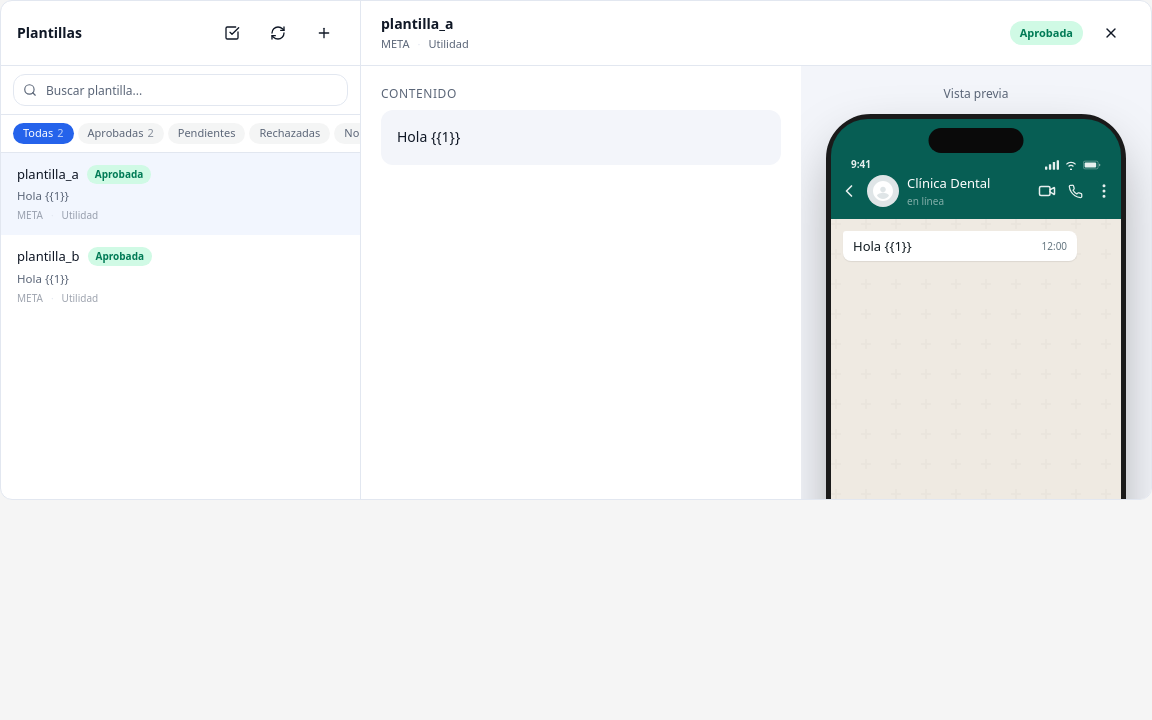
Eliminar plantillas › conserva seleccionadas las bloqueadas o fallidas para reintentar
Click the button named "Seleccionar plantillas": {"x": 232, "y": 33} x1=212 y1=13 x2=252 y2=53
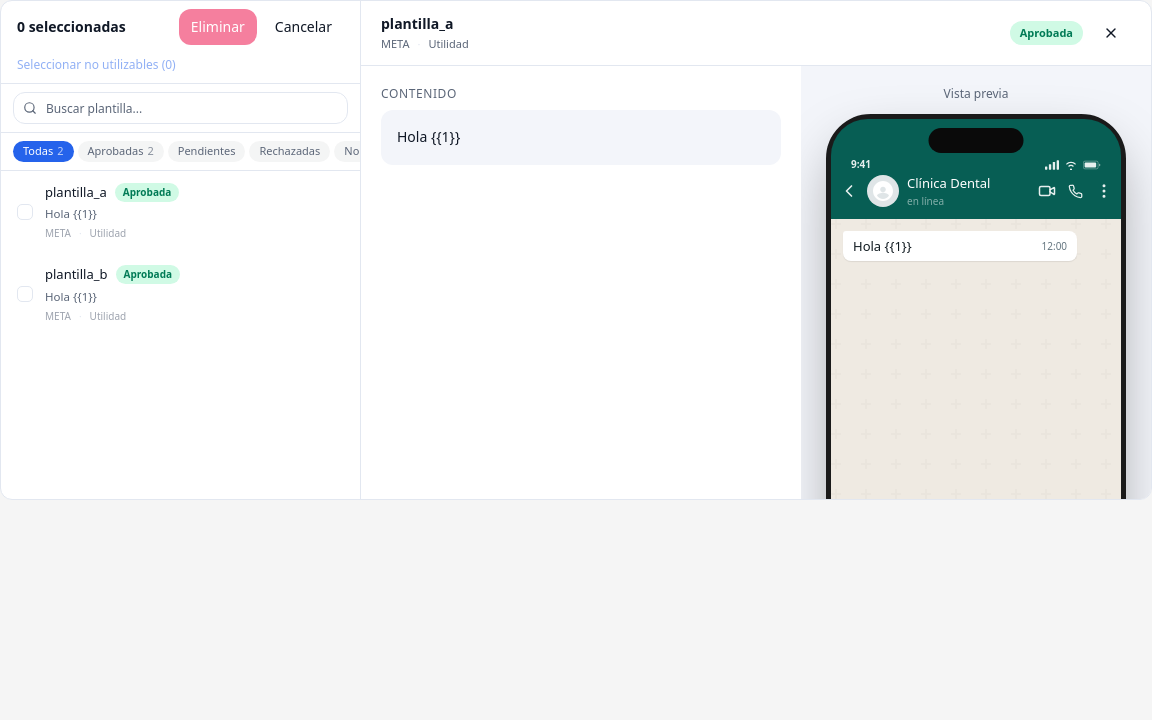
Click the checkbox named "Seleccionar la plantilla plantilla_a": {"x": 25, "y": 212} x1=17 y1=204 x2=33 y2=220
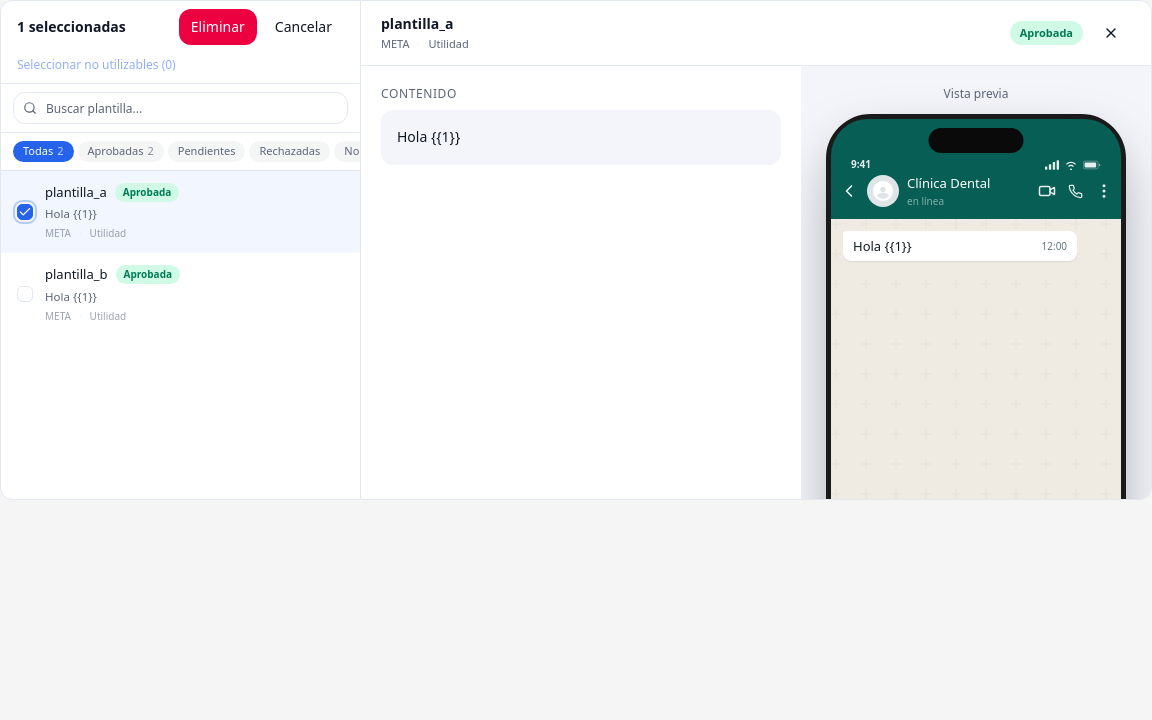
Click the checkbox named "Seleccionar la plantilla plantilla_b": {"x": 25, "y": 294} x1=17 y1=286 x2=33 y2=302
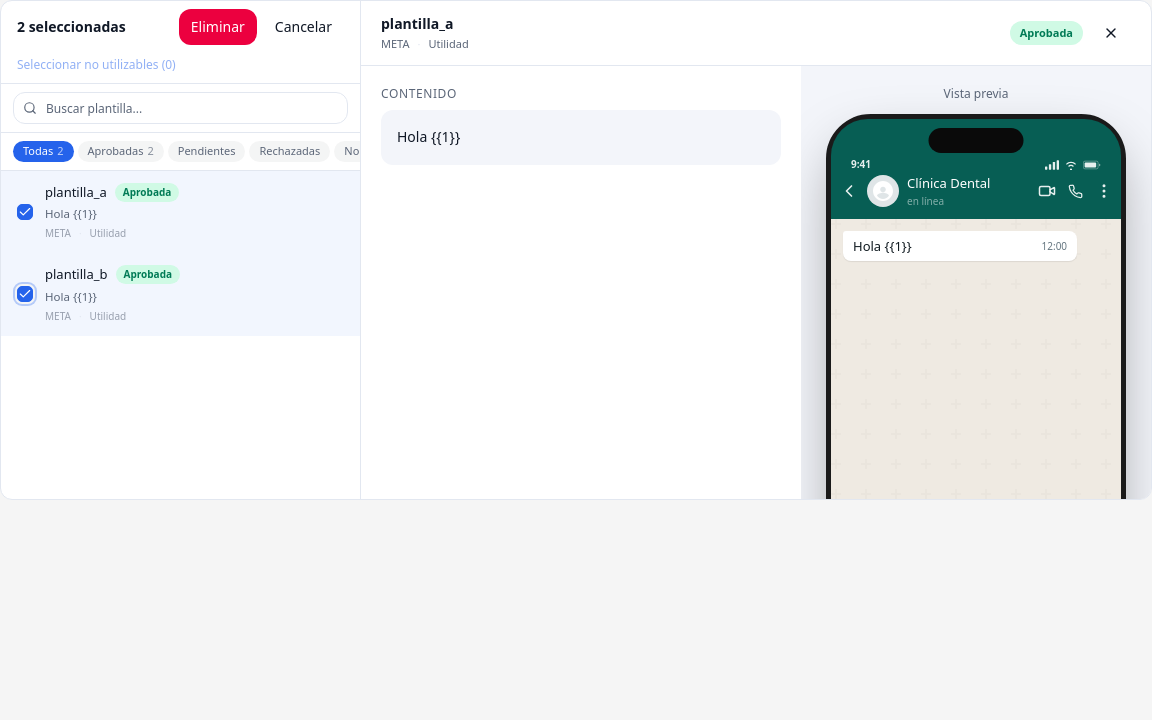
Click the button "Eliminar": {"x": 218, "y": 27} x1=179 y1=9 x2=257 y2=45
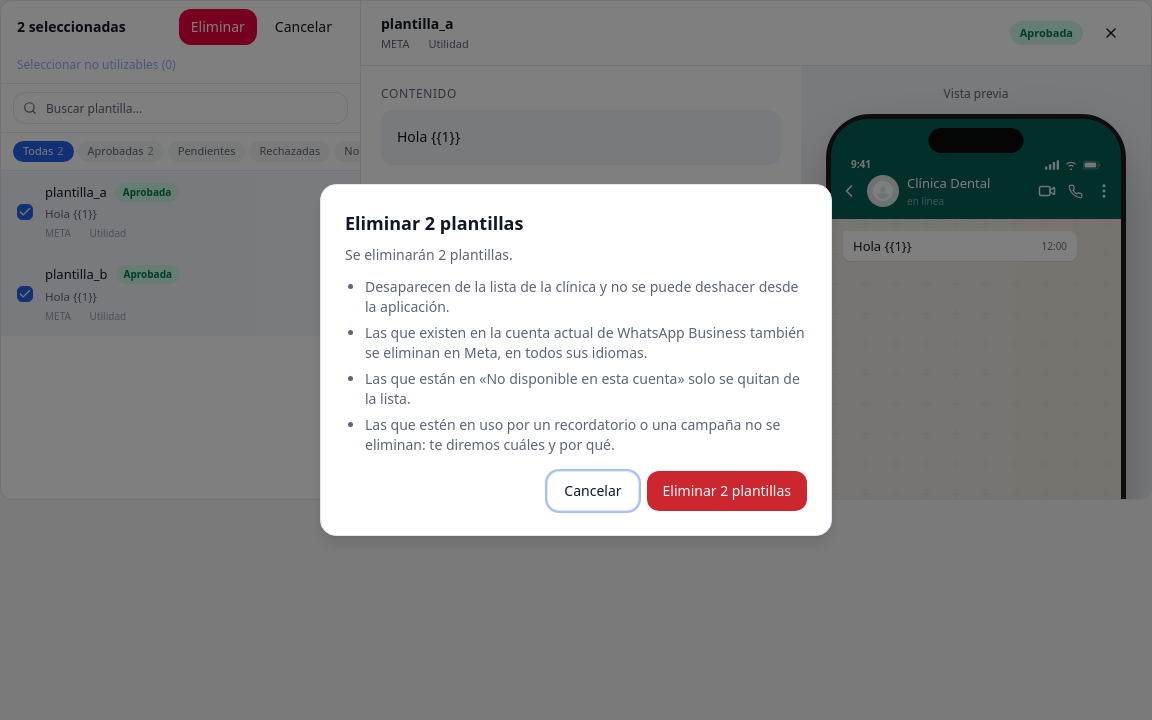
Click the button "Eliminar 2 plantillas": {"x": 727, "y": 491} x1=646 y1=471 x2=807 y2=511
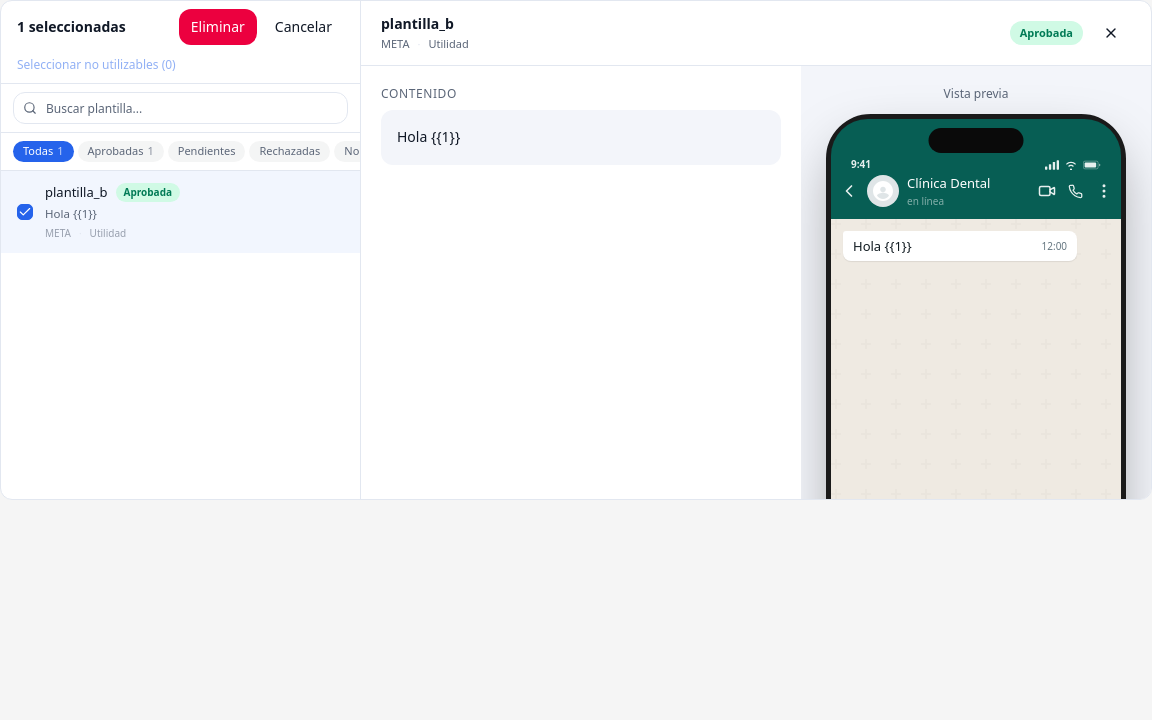
Result: the text "1 seleccionadas" is shown at x1=17 y1=17 x2=126 y2=37
